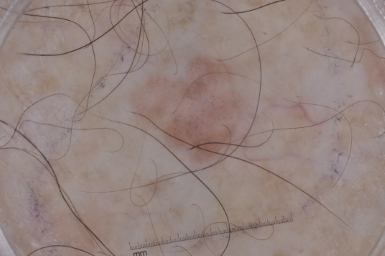seborrheic keratosis: (127, 49, 263, 171)
